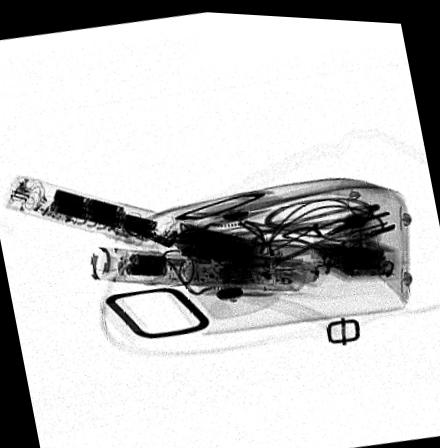Baton: (1, 173, 265, 275), (87, 243, 305, 287)
